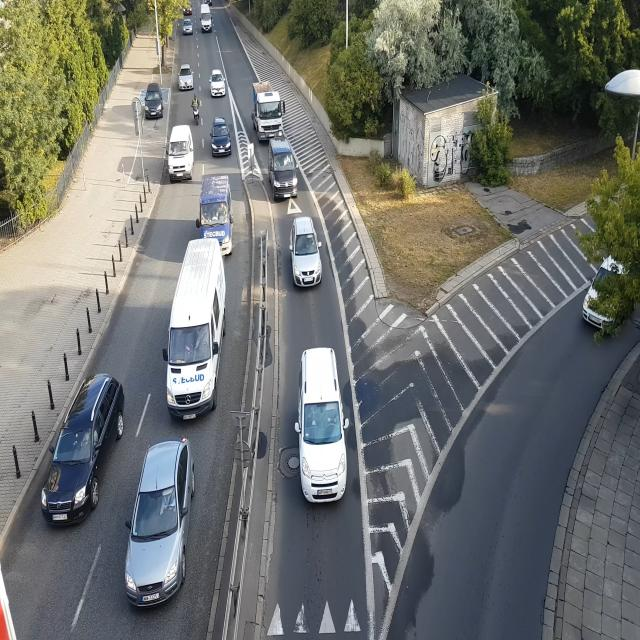car: (160, 236, 233, 421), (42, 368, 126, 524), (123, 440, 194, 620), (291, 342, 364, 510), (576, 241, 615, 352), (284, 217, 329, 294), (196, 172, 235, 256), (265, 138, 301, 202), (162, 127, 198, 180), (210, 115, 238, 160), (142, 79, 164, 122), (210, 71, 228, 105), (176, 64, 197, 93), (198, 2, 215, 37), (181, 16, 196, 37)
motorcycle: (190, 93, 202, 123)
truck: (248, 74, 288, 143)
